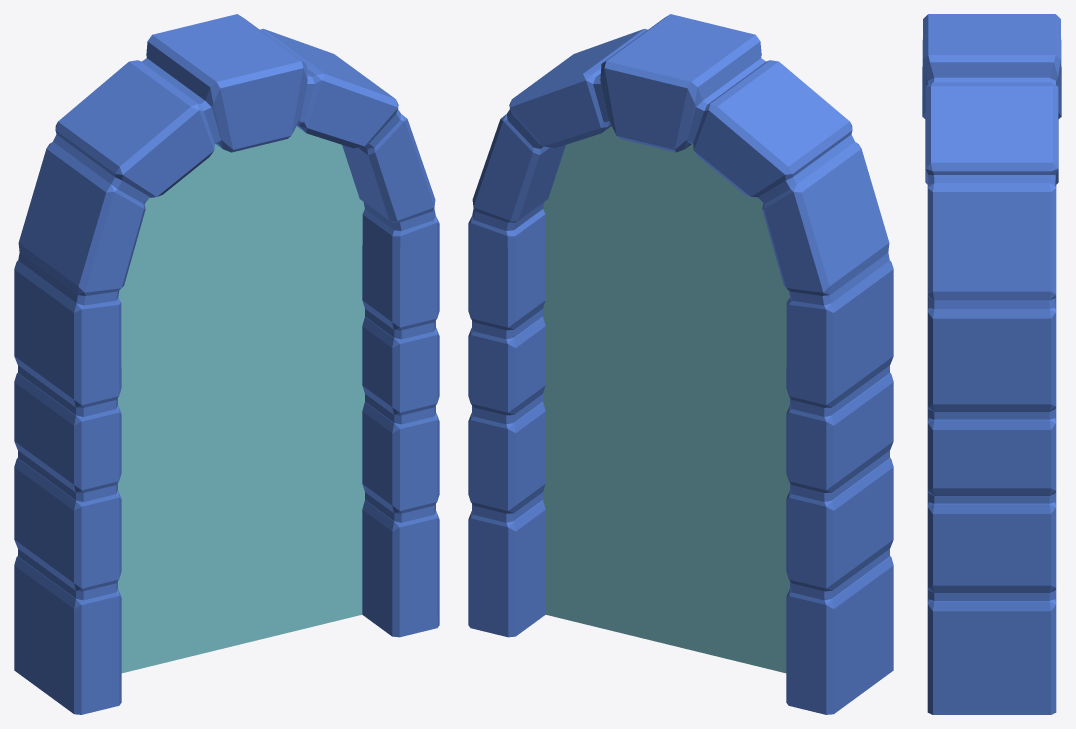
Rendered from Finish (2).fbx.
The picture shows the model from 3 angles, left to right: view 1: azimuth 30°, elevation 25°; view 2: azimuth 150°, elevation 25°; view 3: azimuth 270°, elevation 25°; orthographic projection.
Visible parts, largest first — view 1: Cylinder; view 2: Cylinder; view 3: Cylinder.
Part boxes in pixels (x1,y1,x2,y2): Cylinder: (14, 14, 439, 714); Cylinder: (468, 14, 893, 714); Cylinder: (922, 14, 1061, 714).
Bounding box in the file's own units: 1.5 × 2.35 × 0.5019.
